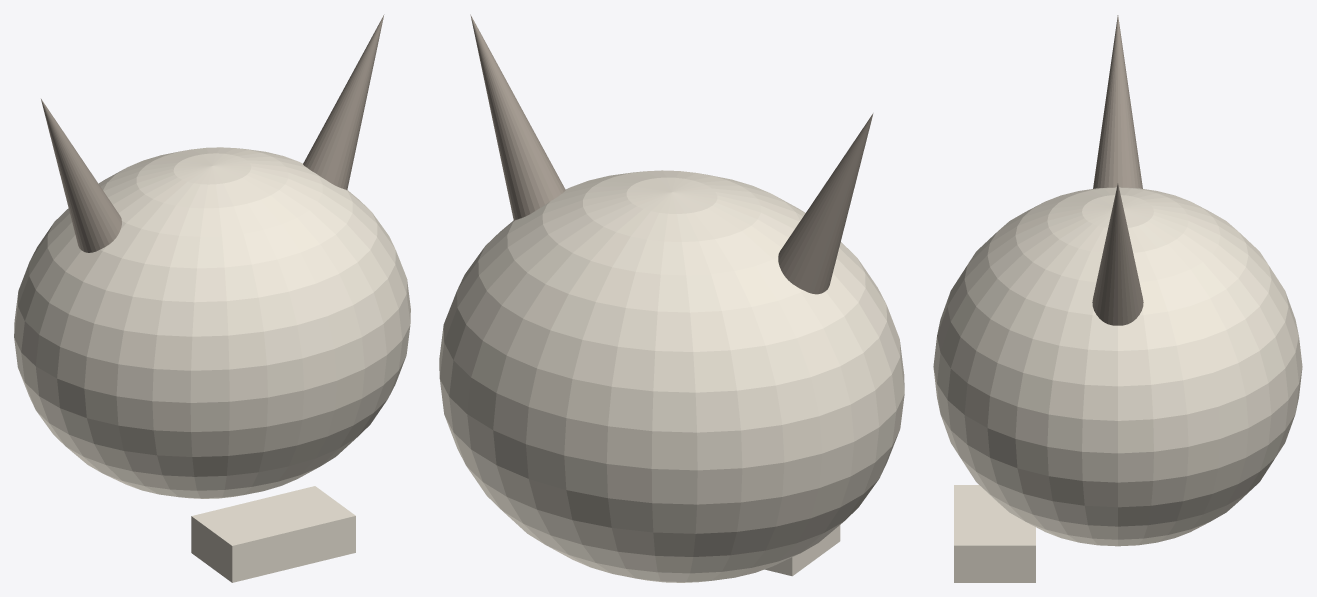
Rendered from demon_skull.glb.
The picture shows the model from 3 angles, left to right: view 1: azimuth 30°, elevation 25°; view 2: azimuth 150°, elevation 25°; view 3: azimuth 270°, elevation 25°; orthographic projection. The views are drawn at different scales.
Visible parts, largest first — view 1: Horn_-1; view 2: Horn_-1; view 3: Horn_-1.
Boxes of the visible parts, x1,y1,x2,y2 form: Horn_-1: (14, 14, 410, 582); Horn_-1: (439, 14, 904, 582); Horn_-1: (933, 15, 1302, 582).
Bounding box in the file's own units: 1 × 1.22 × 0.9.
